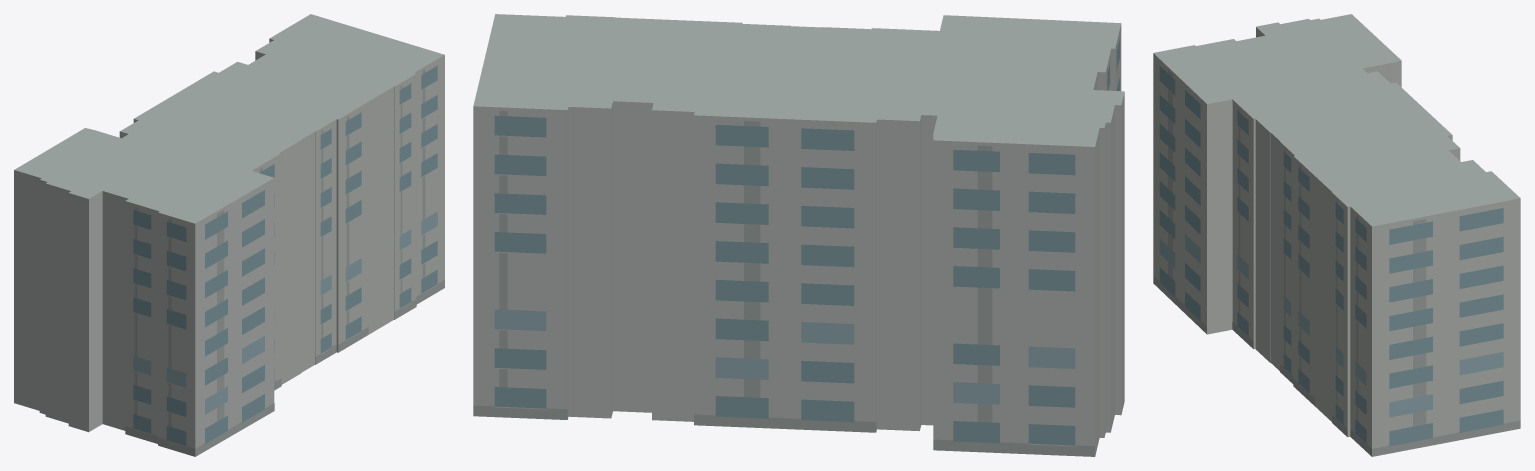
The model's file is survey-upis-32577664.glb.
3 renders of one model, left to right at view 1: azimuth 30°, elevation 25°; view 2: azimuth 150°, elevation 25°; view 3: azimuth 270°, elevation 25°, orthographic. The views are drawn at different scales.
Visible parts, largest first — view 1: survey-upis-32577664.tmp; view 2: survey-upis-32577664.tmp; view 3: survey-upis-32577664.tmp.
Boxes of the visible parts, box(x1,y1,x2,y2) form: survey-upis-32577664.tmp: box(14, 14, 444, 456); survey-upis-32577664.tmp: box(473, 14, 1124, 456); survey-upis-32577664.tmp: box(1153, 14, 1520, 456).
Size of the model in its own units: 41.77 by 21.1 by 30.52.
